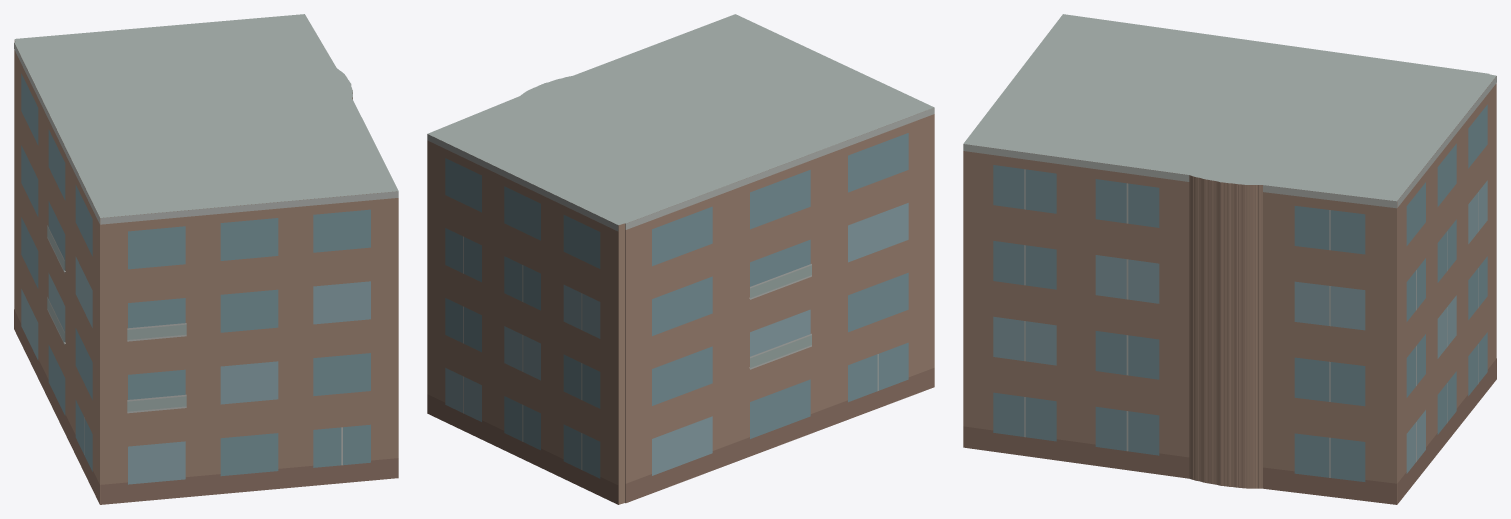
File: survey-upis-32672122.glb
3 views of the same model, side by side, from view 1: azimuth 30°, elevation 25°; view 2: azimuth 150°, elevation 25°; view 3: azimuth 270°, elevation 25° (orthographic). The views are drawn at different scales.
Visible parts, largest first — view 1: survey-upis-32672122.tmp; view 2: survey-upis-32672122.tmp; view 3: survey-upis-32672122.tmp.
Boxes of the visible parts, left/top/right/bottom form: survey-upis-32672122.tmp: left=14, top=14, right=398, bottom=504; survey-upis-32672122.tmp: left=427, top=14, right=934, bottom=504; survey-upis-32672122.tmp: left=963, top=14, right=1496, bottom=504.
Bounding box in the file's own units: 13.97 × 10.55 × 16.82.
